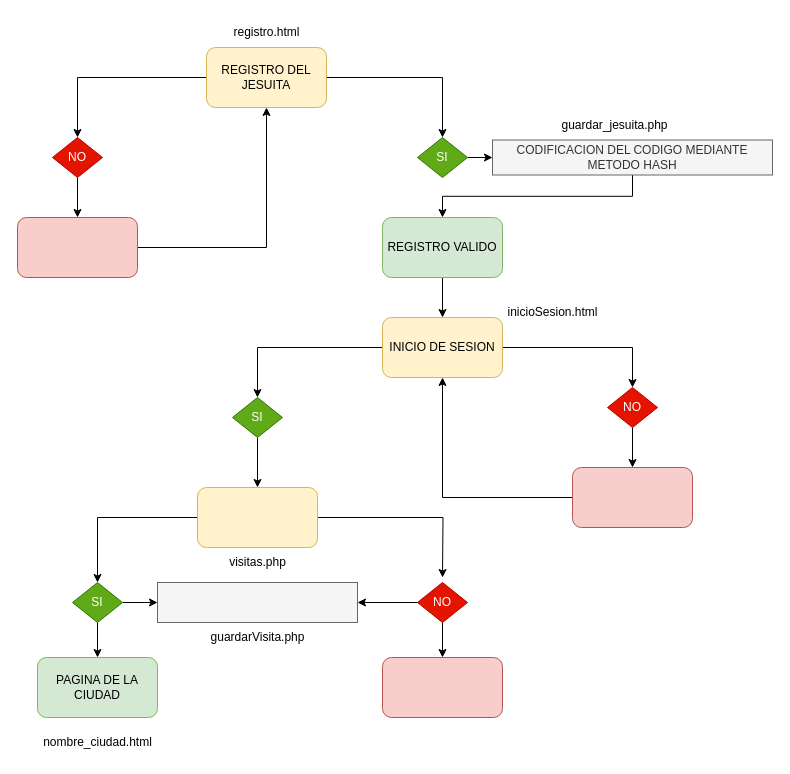
The diagram is 790 pixels wide and 774 high, and some of its shapes have lost their labels. Each missing label, with the centre of its shape:
"DETERMINAR VISITA" belongs at point (257, 517).
"ERROR EN INICIO" belongs at point (632, 497).
"GUARDAMOS LA VISITA EN LA BASE DE DATOS" belongs at point (257, 602).
"PAGINA EN CONSTRUCCION" belongs at point (442, 687).
"REGISTRO INVALIDO" belongs at point (77, 247).
